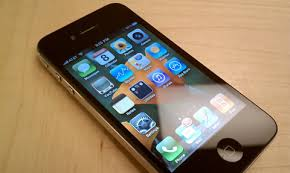iphone: (33, 1, 284, 166)
iphone4: (33, 1, 281, 173)
